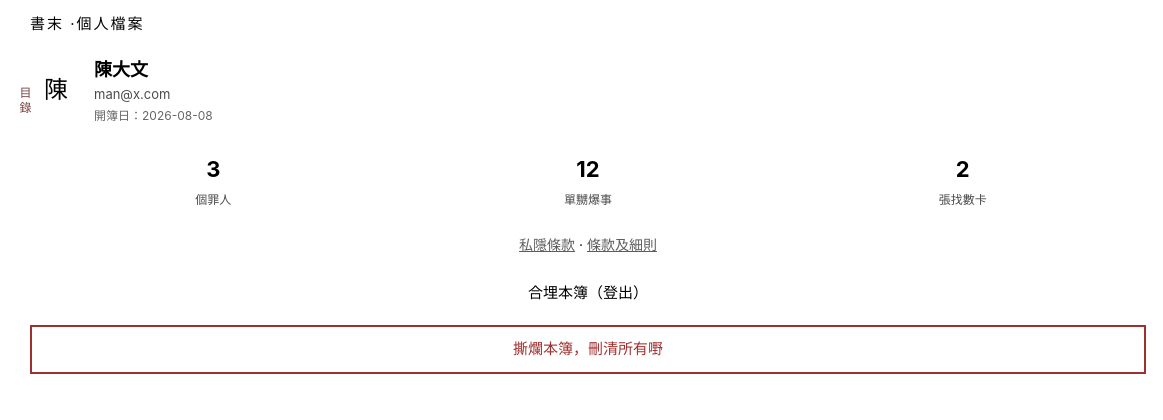
Scenario: 唔撕住 backs out without deleting
Click the button "撕爛本簿，刪清所有嘢" at [588, 349], box [30,325,1146,374]
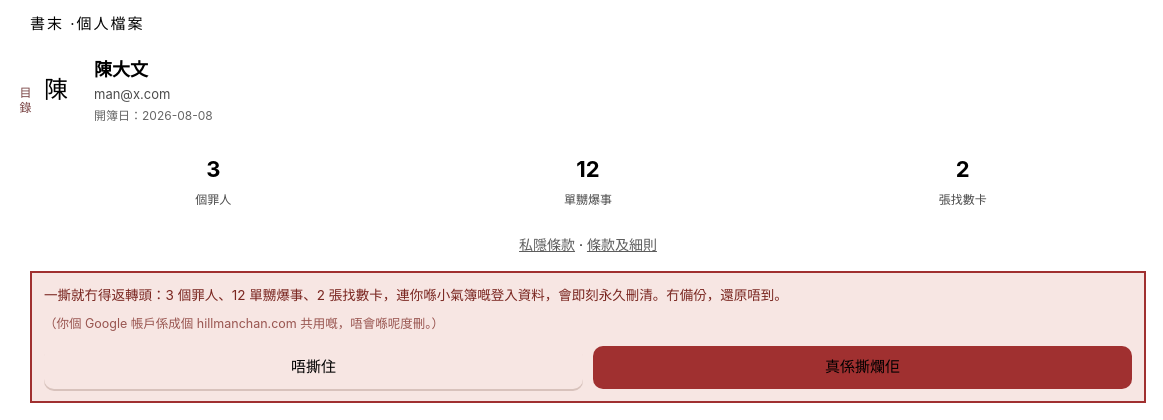
Click the button "唔撕住" at [314, 367], box [44,346,583,389]
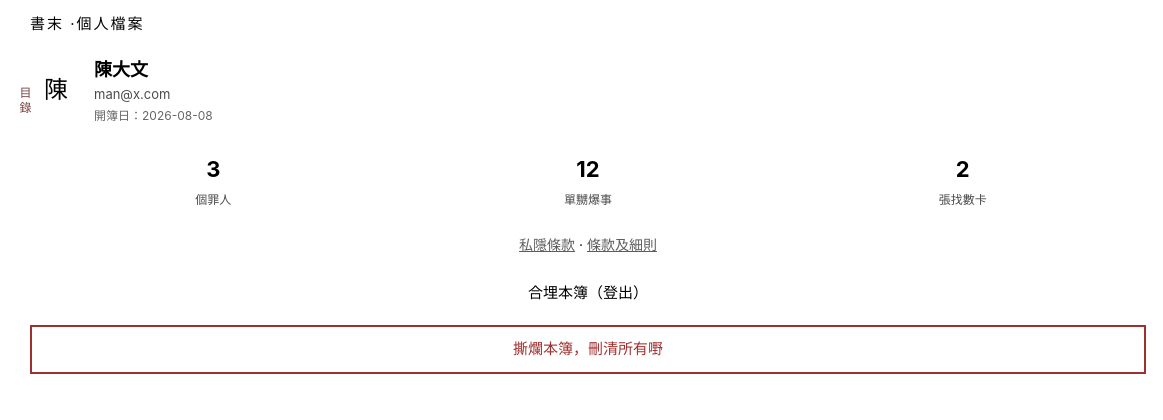
Expected: the button "撕爛本簿，刪清所有嘢" is shown, [30,325,1146,374]
